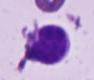L: (24, 24, 71, 64)
